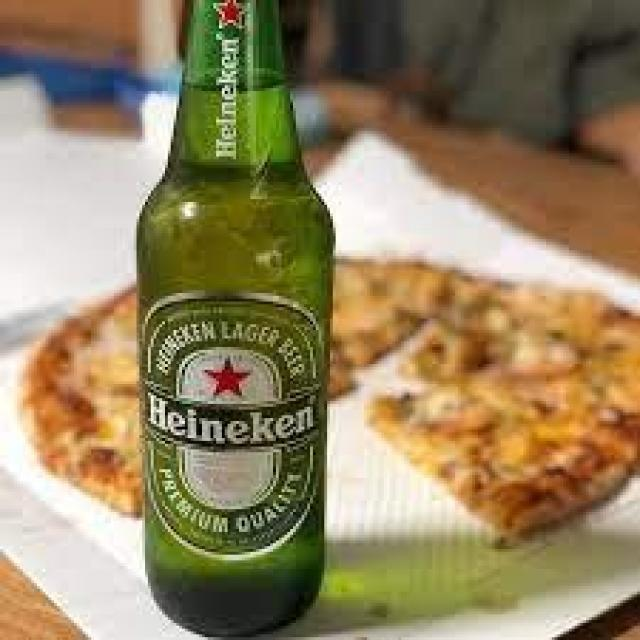beer-bottle: (122, 2, 342, 634)
